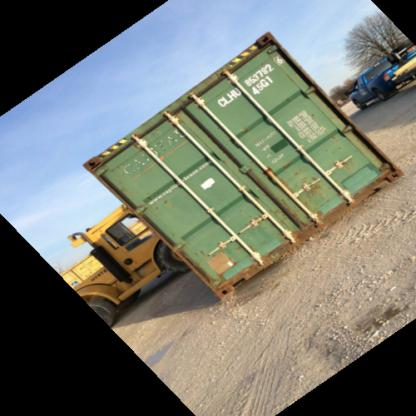Damage: (193, 242, 240, 284), (294, 167, 326, 212), (121, 148, 154, 178), (154, 125, 188, 154), (145, 189, 168, 213), (84, 154, 102, 174), (257, 30, 271, 49)
